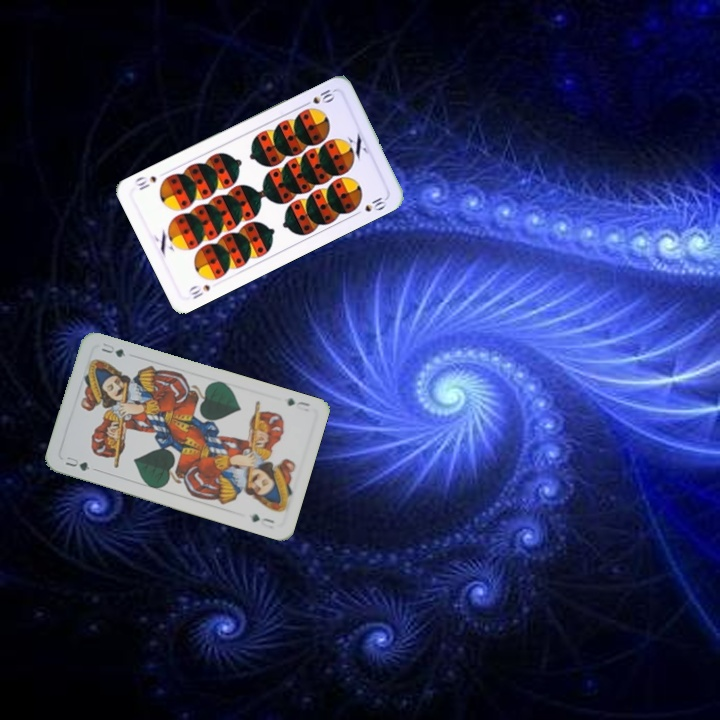GU: (61, 452, 99, 474), (283, 394, 312, 414)
S10: (299, 85, 337, 109), (184, 280, 213, 302)
